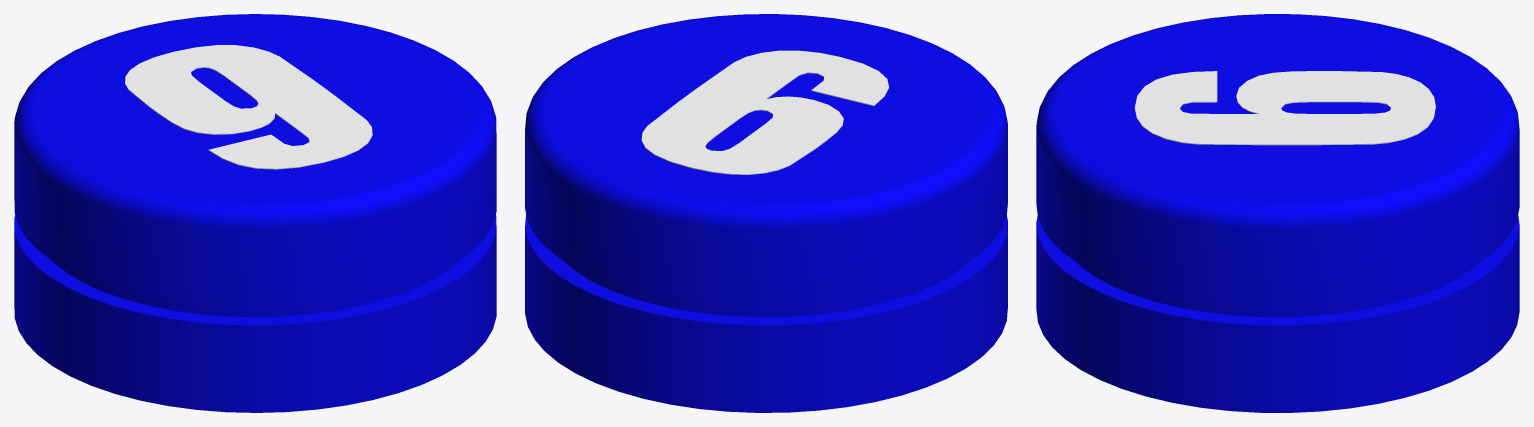
File: nubot_frame9_blue.dae
3 views of the same model, side by side, from view 1: azimuth 30°, elevation 25°; view 2: azimuth 150°, elevation 25°; view 3: azimuth 270°, elevation 25° (orthographic).
Visible parts, largest first — view 1: SketchUp (×3), instance_0; view 2: SketchUp (×3), instance_0; view 3: SketchUp (×3), instance_0.
Part boxes in pixels (<box>): SketchUp (×3): <box>14,14,496,412</box>; instance_0: <box>125,45,372,169</box>; SketchUp (×3): <box>525,14,1007,412</box>; instance_0: <box>641,50,889,174</box>; SketchUp (×3): <box>1036,14,1519,412</box>; instance_0: <box>1134,71,1435,145</box>.
Size of the model in its own units: 19.66 by 19.68 by 9.09.
